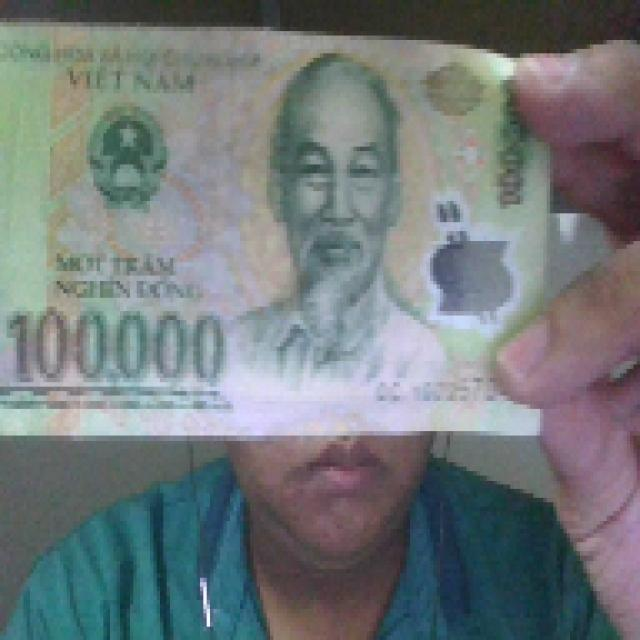100 000 VND: (1, 8, 618, 440)
